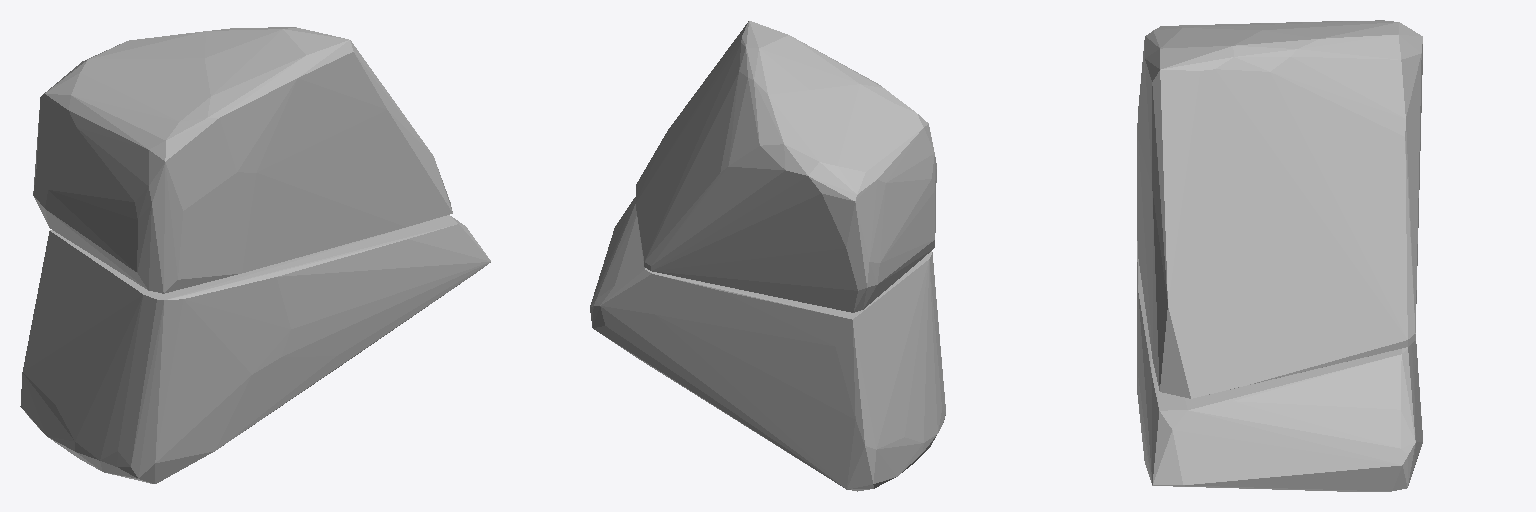
The robot description file, URDF, robot "root":
<robot name="root">
  <link name="link_rock5_convex_piece_0">
    <inertial>
      <origin rpy="0 0 0" xyz="0 0 0"/>
      <mass value="2.64E+05"/>
      <inertia ixx="-4.33E+09" ixy="-2.13E+08" ixz="2.89E+09" iyy="-4.23E+09" iyz="1.33E+09" izz="-1.04E+07"/>
    </inertial>
    <visual>
      <origin rpy="0 0 0" xyz="0 0 0"/>
      <geometry>
        <mesh filename="rock5_convex_piece_0.obj" scale="1.0000E+00 1.0000E+00 1.0000E+00"/>
      </geometry>
      <material name="">
        <color rgba="7.50E-01 7.50E-01 7.50E-01 1"/>
      </material>
    </visual>
    <collision>
      <origin rpy="0 0 0" xyz="0 0 0"/>
      <geometry>
        <mesh filename="rock5_convex_piece_0.obj" scale="1.0000E+00 1.0000E+00 1.0000E+00"/>
      </geometry>
    </collision>
  </link>
  <link name="link_rock5_convex_piece_1">
    <inertial>
      <origin rpy="0 0 0" xyz="0 0 0"/>
      <mass value="2.46E+05"/>
      <inertia ixx="4.13E+09" ixy="-2.50E+07" ixz="-2.23E+09" iyy="3.96E+09" iyz="-1.06E+09" izz="5.27E+07"/>
    </inertial>
    <visual>
      <origin rpy="0 0 0" xyz="0 0 0"/>
      <geometry>
        <mesh filename="rock5_convex_piece_1.obj" scale="1.0000E+00 1.0000E+00 1.0000E+00"/>
      </geometry>
      <material name="">
        <color rgba="7.50E-01 7.50E-01 7.50E-01 1"/>
      </material>
    </visual>
    <collision>
      <origin rpy="0 0 0" xyz="0 0 0"/>
      <geometry>
        <mesh filename="rock5_convex_piece_1.obj" scale="1.0000E+00 1.0000E+00 1.0000E+00"/>
      </geometry>
    </collision>
  </link>
  <joint name="link_rock5_convex_piece_1_joint" type="fixed">
    <origin rpy="0 0 0" xyz="0 0 0"/>
    <parent link="link_rock5_convex_piece_0"/>
    <child link="link_rock5_convex_piece_1"/>
  </joint>
</robot>

--- What the picture shows (computed from the rendered views, not written in the file) ---
The picture shows the robot from 3 angles, left to right: view 1: azimuth 30°, elevation 25°; view 2: azimuth 150°, elevation 25°; view 3: azimuth 270°, elevation 25°; orthographic projection.
Model root with 2 links and 1 joints (1 fixed), rooted at link_rock5_convex_piece_0, posed every joint at zero.
Visible links, largest first — view 1: link_rock5_convex_piece_1, link_rock5_convex_piece_0; view 2: link_rock5_convex_piece_1, link_rock5_convex_piece_0; view 3: link_rock5_convex_piece_1, link_rock5_convex_piece_0.
Boxes of the visible links, left/top/right/bottom form: link_rock5_convex_piece_1: left=33, top=27, right=452, bottom=293; link_rock5_convex_piece_0: left=20, top=215, right=490, bottom=483; link_rock5_convex_piece_1: left=635, top=21, right=936, bottom=312; link_rock5_convex_piece_0: left=590, top=197, right=945, bottom=491; link_rock5_convex_piece_1: left=1137, top=20, right=1422, bottom=398; link_rock5_convex_piece_0: left=1137, top=241, right=1422, bottom=491.
Bounding box of the posed robot: 128 × 65.83 × 133 m (x, y, z).
Meshes: 2 distinct files referenced, 2 mesh visuals loaded (2 OBJ).